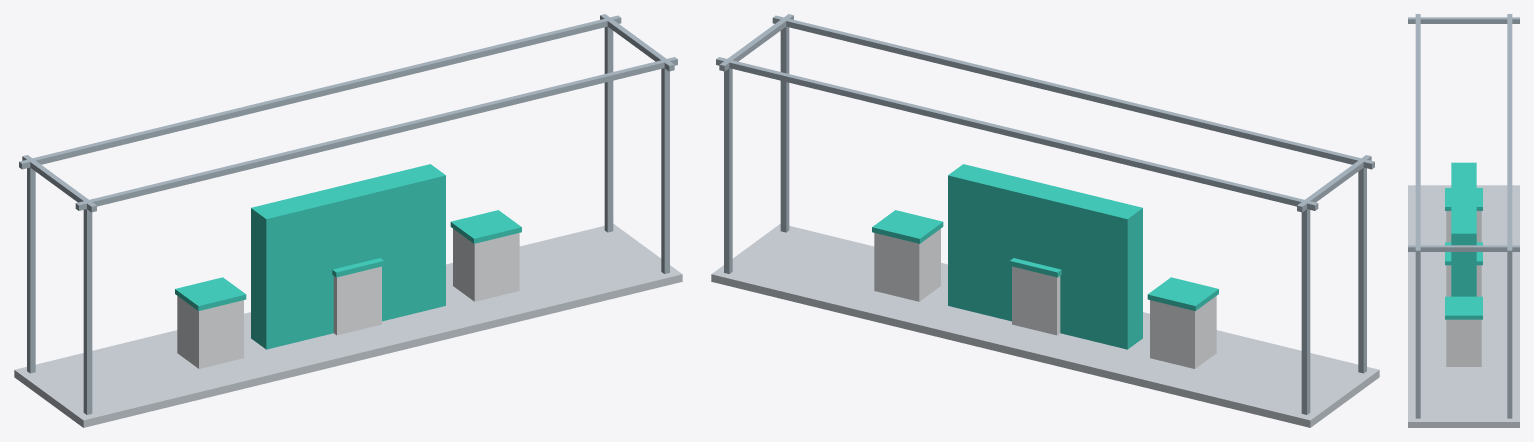
3 views of the same model, side by side, from view 1: azimuth 30°, elevation 25°; view 2: azimuth 150°, elevation 25°; view 3: azimuth 270°, elevation 25° (orthographic). The views are drawn at different scales.
Parts seen in each view (by area): view 1: Exhibition Booth Concept; view 2: Exhibition Booth Concept; view 3: Exhibition Booth Concept.
Part boxes in pixels (box(x1,y1,x2,y2)): Exhibition Booth Concept: box(14, 14, 682, 427); Exhibition Booth Concept: box(711, 14, 1379, 427); Exhibition Booth Concept: box(1408, 14, 1519, 427).
Size of the model in its own units: 10 by 3.49 by 2.
